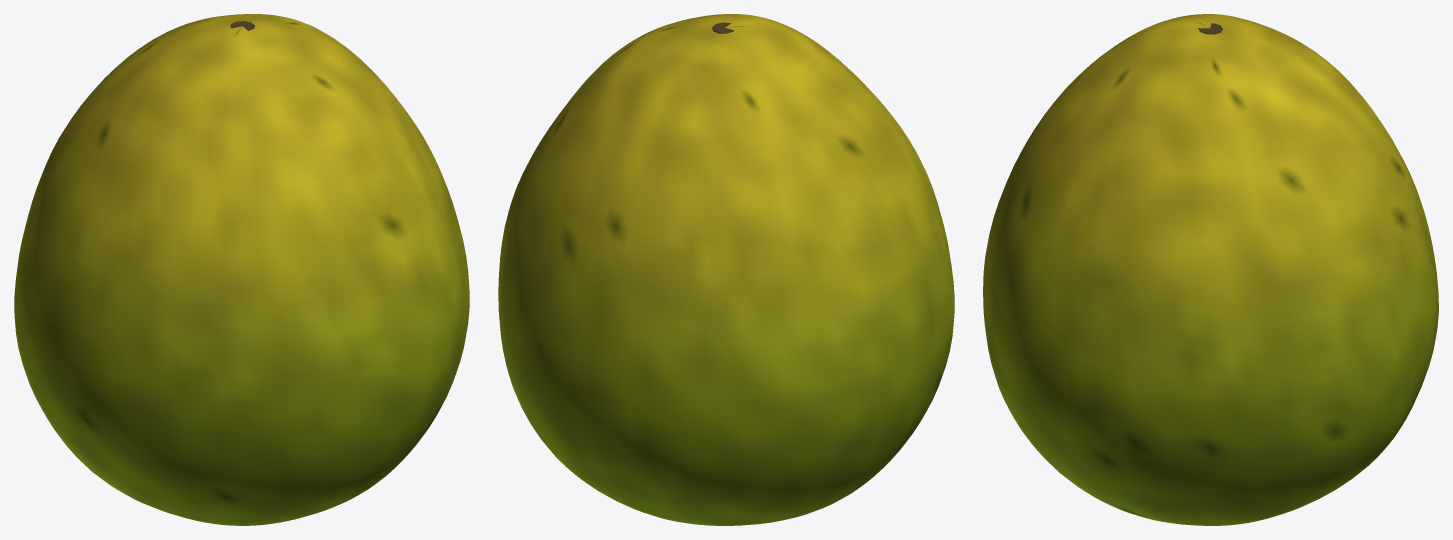
Rendered from goyave.glb.
The picture shows the model from 3 angles, left to right: view 1: azimuth 30°, elevation 25°; view 2: azimuth 150°, elevation 25°; view 3: azimuth 270°, elevation 25°; orthographic projection.
Parts seen in each view (by area): view 1: entier_peau, moitie_B_peau, moitie_A_peau; view 2: entier_peau, moitie_A_peau, moitie_B_peau; view 3: entier_peau, moitie_A_peau, moitie_B_peau.
Part boxes in pixels (<box>): entier_peau: <box>14,14,469,525</box>; moitie_B_peau: <box>46,24,469,525</box>; moitie_A_peau: <box>14,14,330,466</box>; entier_peau: <box>498,14,954,525</box>; moitie_A_peau: <box>498,25,920,524</box>; moitie_B_peau: <box>653,14,953,472</box>; entier_peau: <box>983,14,1438,525</box>; moitie_A_peau: <box>1210,15,1438,525</box>; moitie_B_peau: <box>983,14,1210,525</box>.
Bounding box in the file's own units: 1.74 × 2 × 1.74.
